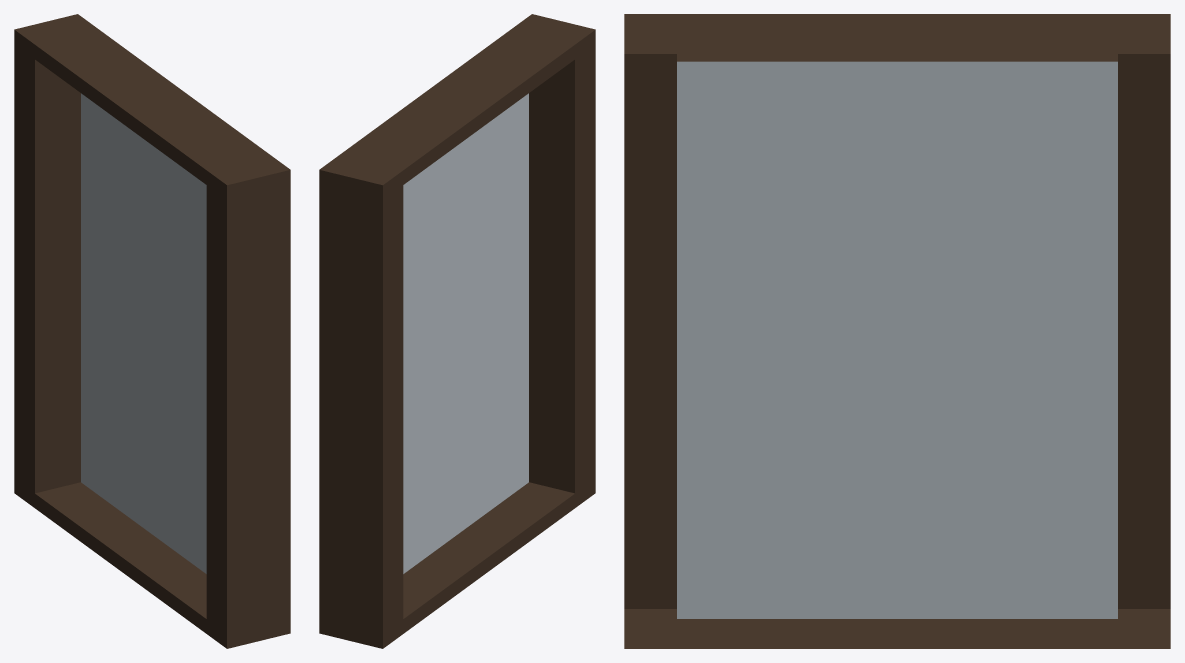
The model's file is fbx_building_2_window3.fbx.
The picture shows the model from 3 angles, left to right: view 1: azimuth 30°, elevation 25°; view 2: azimuth 150°, elevation 25°; view 3: azimuth 270°, elevation 25°; orthographic projection. The views are drawn at different scales.
Parts seen in each view (by area): view 1: fbx_building_2_window3; view 2: fbx_building_2_window3; view 3: fbx_building_2_window3.
Part boxes in pixels (x1,y1,x2,y2): fbx_building_2_window3: (14,14,290,648); fbx_building_2_window3: (319,14,595,648); fbx_building_2_window3: (624,14,1170,648).
Bounding box in the file's own units: 0.0593 × 0.4129 × 0.3435.
Materials: 2 (1 with a texture image).
